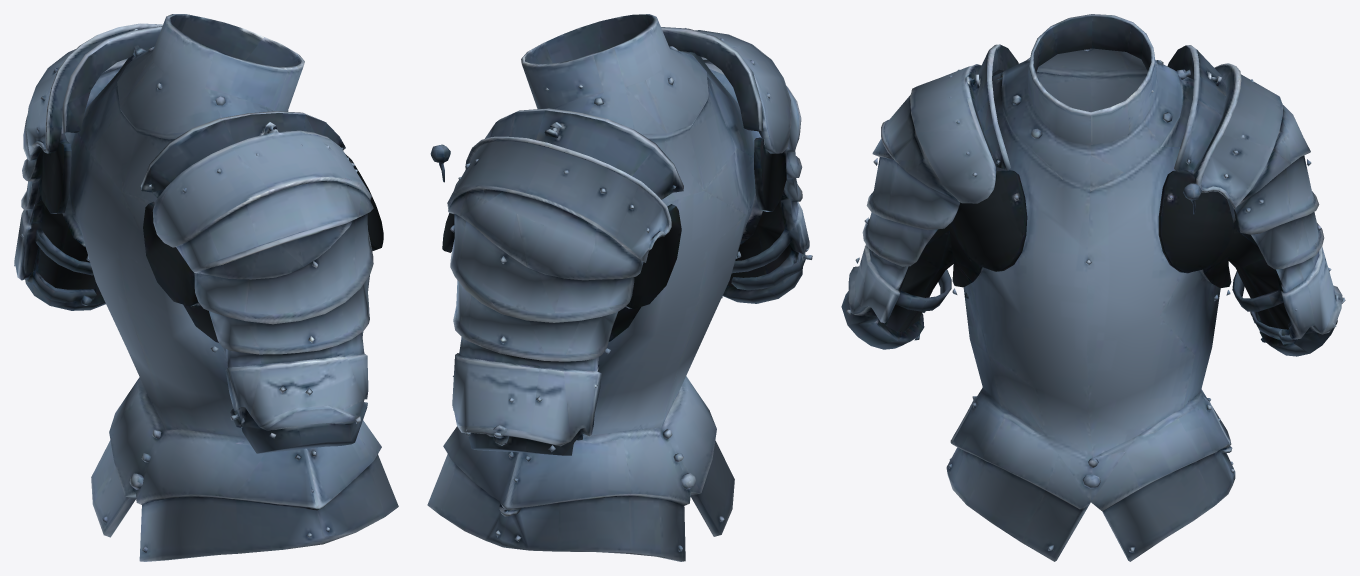
File: torvek_s_platebody.glb
3 views of the same model, side by side, from view 1: azimuth 30°, elevation 25°; view 2: azimuth 150°, elevation 25°; view 3: azimuth 270°, elevation 25° (orthographic). The views are drawn at different scales.
Parts seen in each view (by area): view 1: tripo_node_bc80c6f8-d932-48cd-8371-e106c18d9efe; view 2: tripo_node_bc80c6f8-d932-48cd-8371-e106c18d9efe; view 3: tripo_node_bc80c6f8-d932-48cd-8371-e106c18d9efe.
Boxes of the visible parts, x1=… form: tripo_node_bc80c6f8-d932-48cd-8371-e106c18d9efe: x1=14, y1=14, x2=398, y2=561; tripo_node_bc80c6f8-d932-48cd-8371-e106c18d9efe: x1=427, y1=14, x2=812, y2=561; tripo_node_bc80c6f8-d932-48cd-8371-e106c18d9efe: x1=841, y1=14, x2=1345, y2=561.
Size of the model in its own units: 0.5488 by 0.998 by 0.9746.
Materials: 1 (1 with a texture image).
